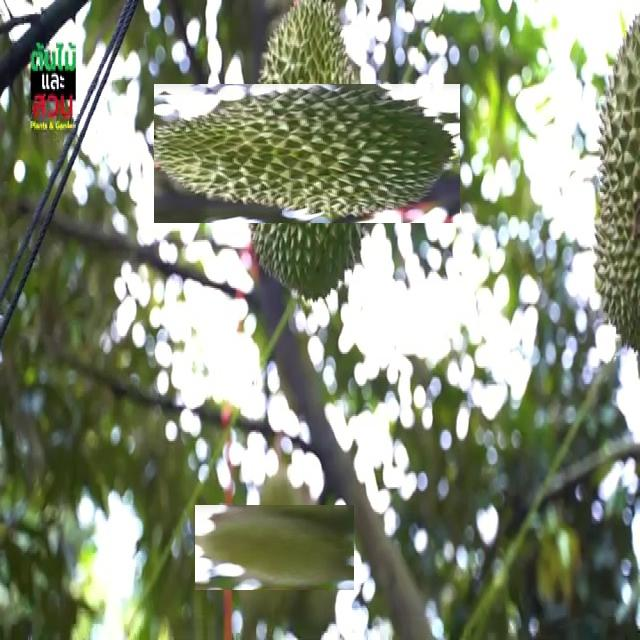durian: (195, 42, 418, 264), (593, 0, 639, 354), (213, 486, 336, 609)
